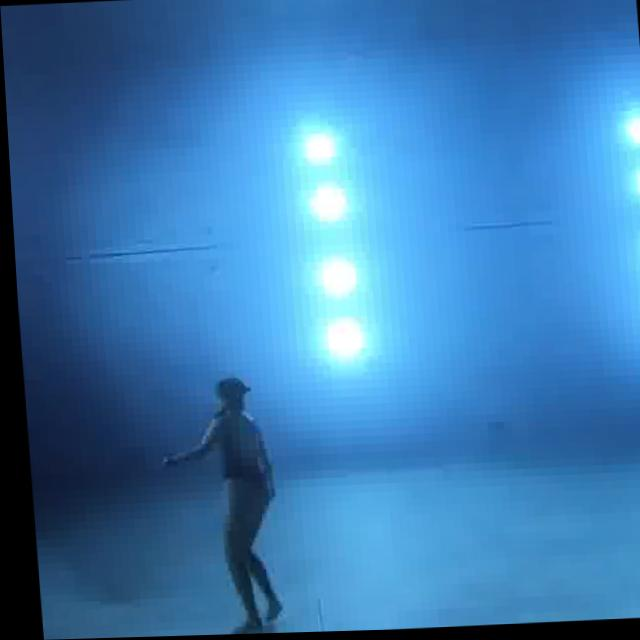human: (170, 368, 293, 636)
